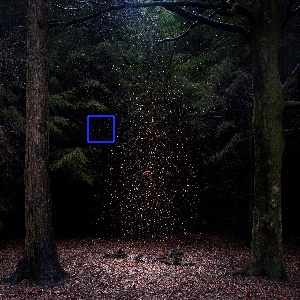square: (85, 113, 117, 144)
